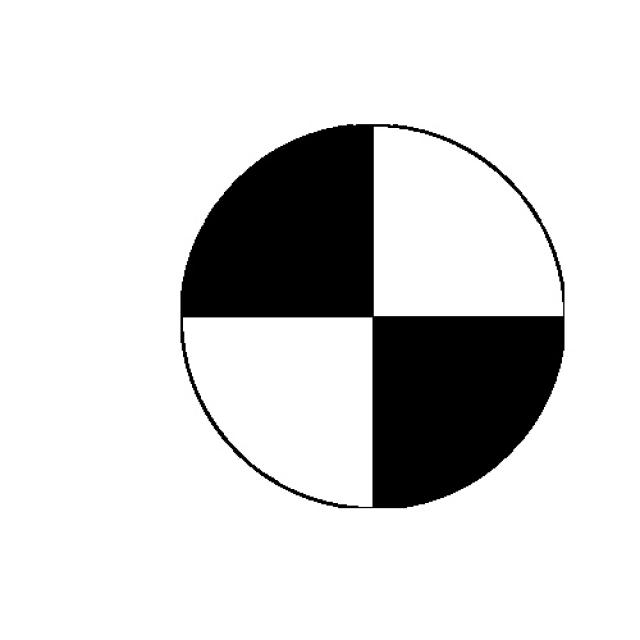Marcadores: (181, 123, 563, 510)
